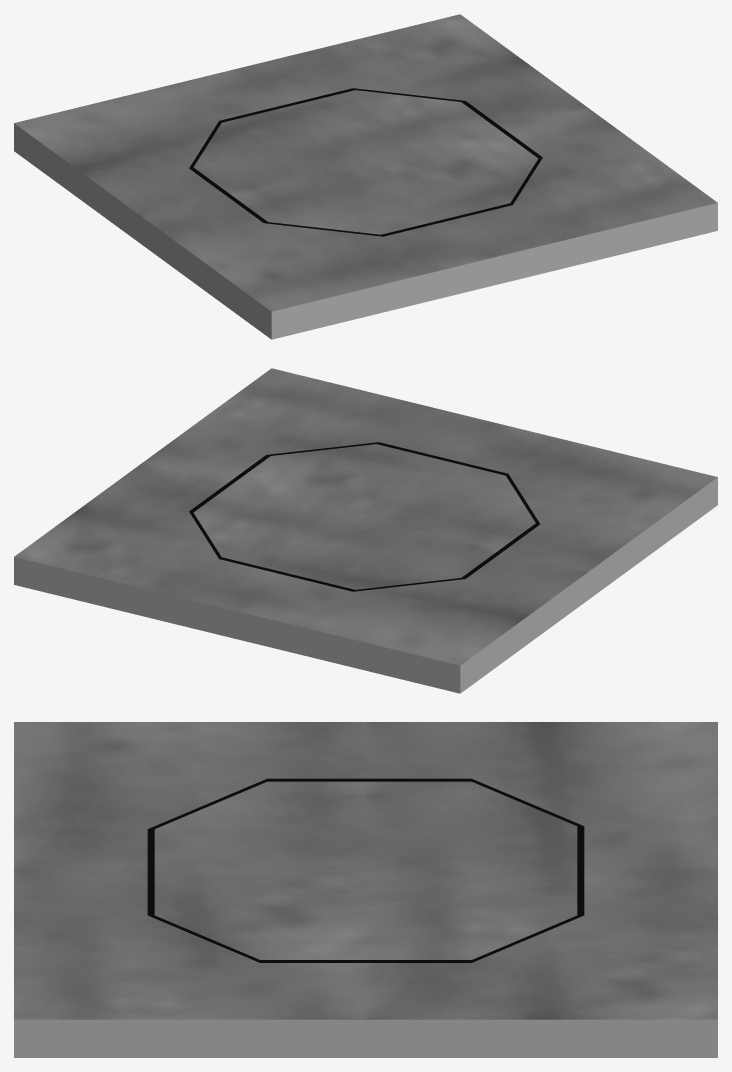
Rendered from Dirty Carbon Floor P.fbx.
3 views of the same model, one above another, from view 1: azimuth 30°, elevation 25°; view 2: azimuth 150°, elevation 25°; view 3: azimuth 270°, elevation 25° (orthographic). The views are drawn at different scales.
Parts seen in each view (by area): view 1: dirty carbon grey Mesh (1), dirty carbon dark grey Mesh (1), Floor Mesh (1), white led Mesh (1); view 2: dirty carbon grey Mesh (1), dirty carbon dark grey Mesh (1), Floor Mesh (1), white led Mesh (1); view 3: dirty carbon grey Mesh (1), dirty carbon dark grey Mesh (1), Floor Mesh (1), white led Mesh (1).
Part boxes in pixels (<box>): dirty carbon grey Mesh (1): <box>14,14,717,311</box>; dirty carbon dark grey Mesh (1): <box>193,90,538,234</box>; Floor Mesh (1): <box>14,123,717,339</box>; white led Mesh (1): <box>189,88,542,236</box>; dirty carbon grey Mesh (1): <box>14,368,717,665</box>; dirty carbon dark grey Mesh (1): <box>193,444,535,589</box>; Floor Mesh (1): <box>14,477,717,693</box>; white led Mesh (1): <box>189,442,540,591</box>; dirty carbon grey Mesh (1): <box>14,722,717,1019</box>; dirty carbon dark grey Mesh (1): <box>154,781,577,959</box>; Floor Mesh (1): <box>14,1019,717,1057</box>; white led Mesh (1): <box>147,778,584,962</box>.
Size of what is drawn, in the model's own units: 5 by 0.3 by 5.
